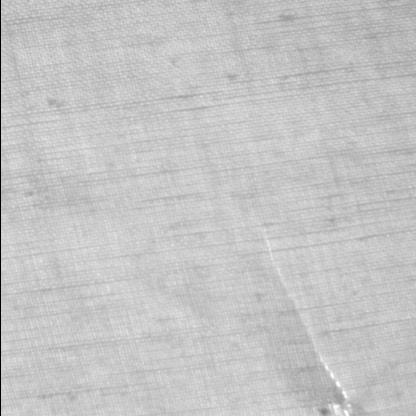hole: (254, 226, 354, 416)
